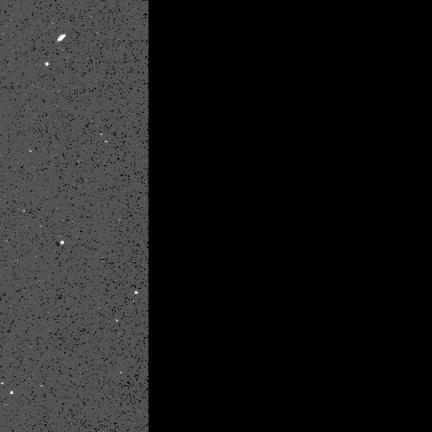blob: (60, 241, 64, 244), (10, 391, 13, 394)
